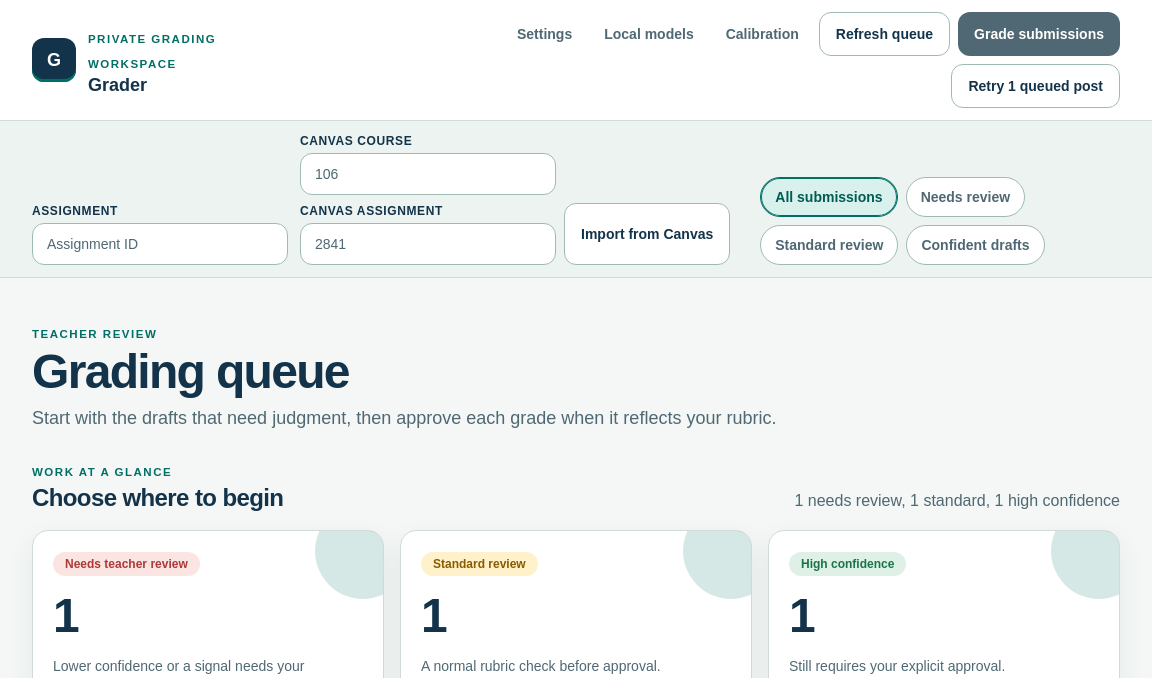
Test case: the offline post queue › reports what the retry achieved
The width and height of the screenshot is (1152, 678).
Click the button "Retry 1 queued post": (1036, 86) [951,64,1120,108]
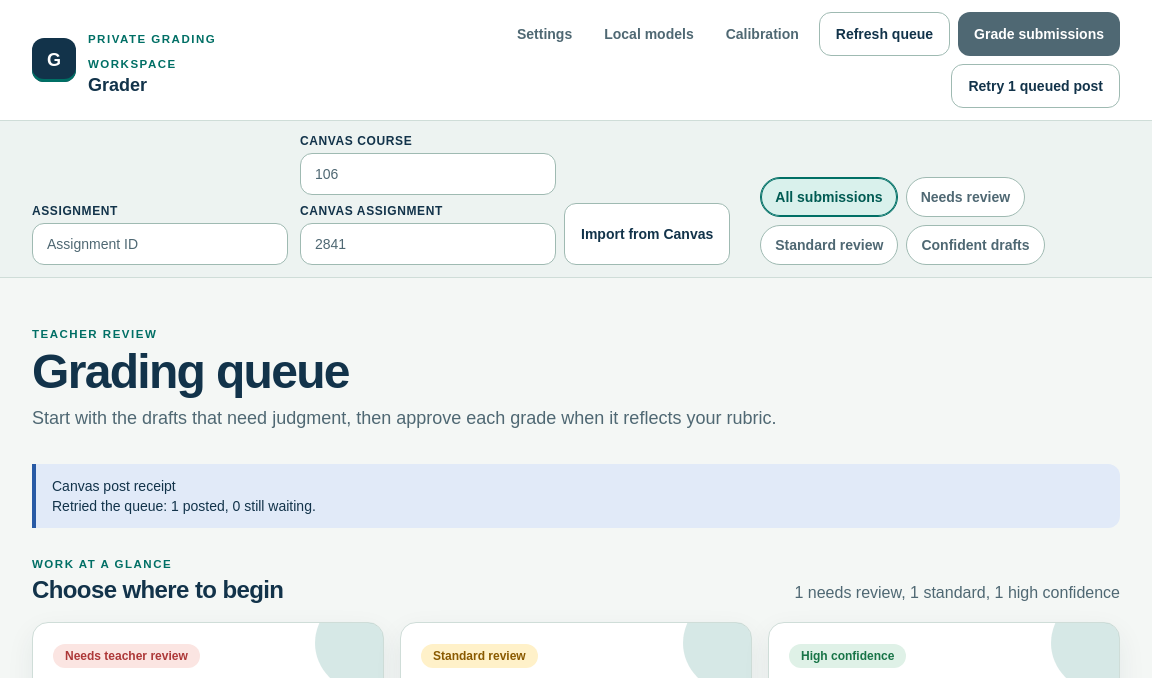
Result: the list item "Retried the queue: 1 posted, 0 still waiting." is shown at [52,496,316,516]
